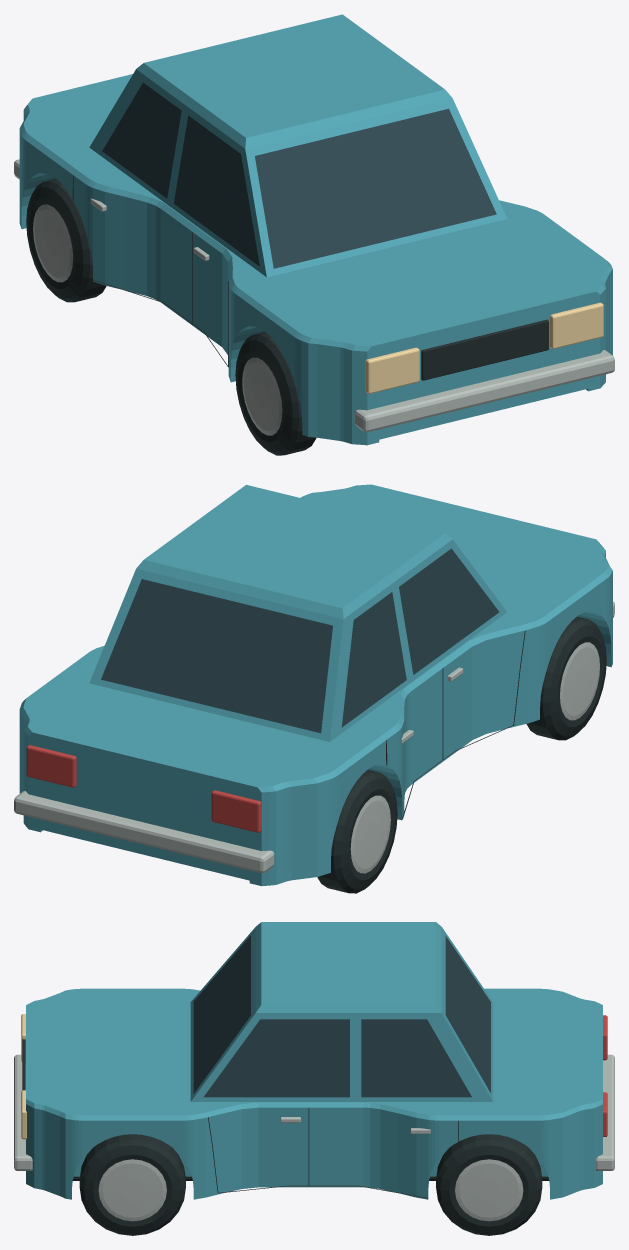
File: asset.glb
The picture shows the model from 3 angles, top to bottom: view 1: azimuth 30°, elevation 25°; view 2: azimuth 150°, elevation 25°; view 3: azimuth 270°, elevation 25°; orthographic projection. The views are drawn at different scales.
Parts seen in each view (by area): view 1: Body_ThreeBox_LowerShell, Cabin_Painted_Pillars_Roof, Glass_Windshield, Glass_Front_L, wheel_fl, wheel_rl, Bumper_Front, Glass_Rear_L, Grille_Dark, Headlight_L, Headlight_R; view 2: Body_ThreeBox_LowerShell, Cabin_Painted_Pillars_Roof, Glass_RearWindow, Glass_Front_L, wheel_fl, wheel_rl, Bumper_Rear, Glass_Rear_L, Taillight_L, Taillight_R; view 3: Body_ThreeBox_LowerShell, Cabin_Painted_Pillars_Roof, Glass_Front_R, wheel_fr, wheel_rr, Glass_Rear_R, Glass_Windshield, Glass_RearWindow, Bumper_Rear, Bumper_Front.
Boxes of the visible parts, x1,y1,x2,y2 form: Body_ThreeBox_LowerShell: (19, 74, 612, 445); Cabin_Painted_Pillars_Roof: (89, 14, 507, 277); Glass_Windshield: (255, 108, 496, 268); Glass_Front_L: (174, 115, 259, 266); wheel_fl: (235, 332, 316, 455); wheel_rl: (26, 178, 106, 302); Bumper_Front: (354, 350, 614, 432); Glass_Rear_L: (102, 82, 181, 198); Grille_Dark: (421, 319, 548, 380); Headlight_L: (365, 347, 419, 393); Headlight_R: (550, 302, 603, 348); Body_ThreeBox_LowerShell: (19, 484, 612, 886); Cabin_Painted_Pillars_Roof: (89, 484, 506, 741); Glass_RearWindow: (101, 579, 332, 733); Glass_Front_L: (399, 548, 499, 674); wheel_fl: (526, 616, 606, 740); wheel_rl: (317, 769, 397, 893); Bumper_Rear: (14, 791, 274, 873); Glass_Rear_L: (341, 592, 406, 727); Taillight_L: (211, 790, 261, 832); Taillight_R: (26, 745, 76, 787); Body_ThreeBox_LowerShell: (26, 988, 602, 1199); Cabin_Painted_Pillars_Roof: (190, 922, 493, 1101); Glass_Front_R: (204, 1019, 349, 1097); wheel_fr: (79, 1134, 185, 1235); wheel_rr: (436, 1134, 542, 1235); Glass_Rear_R: (361, 1019, 471, 1097); Glass_Windshield: (193, 935, 250, 1093); Glass_RearWindow: (445, 936, 490, 1092); Bumper_Rear: (595, 1054, 614, 1170); Bumper_Front: (14, 1054, 32, 1170).
Size of the model in its own units: 2.25 by 1.65 by 4.3.
